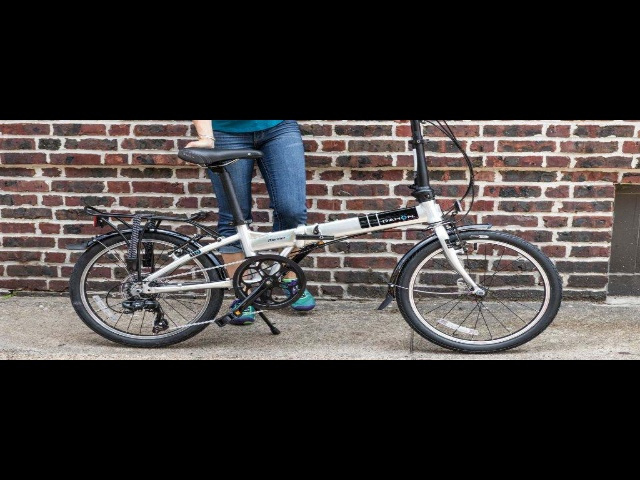bike: (55, 136, 572, 362)
